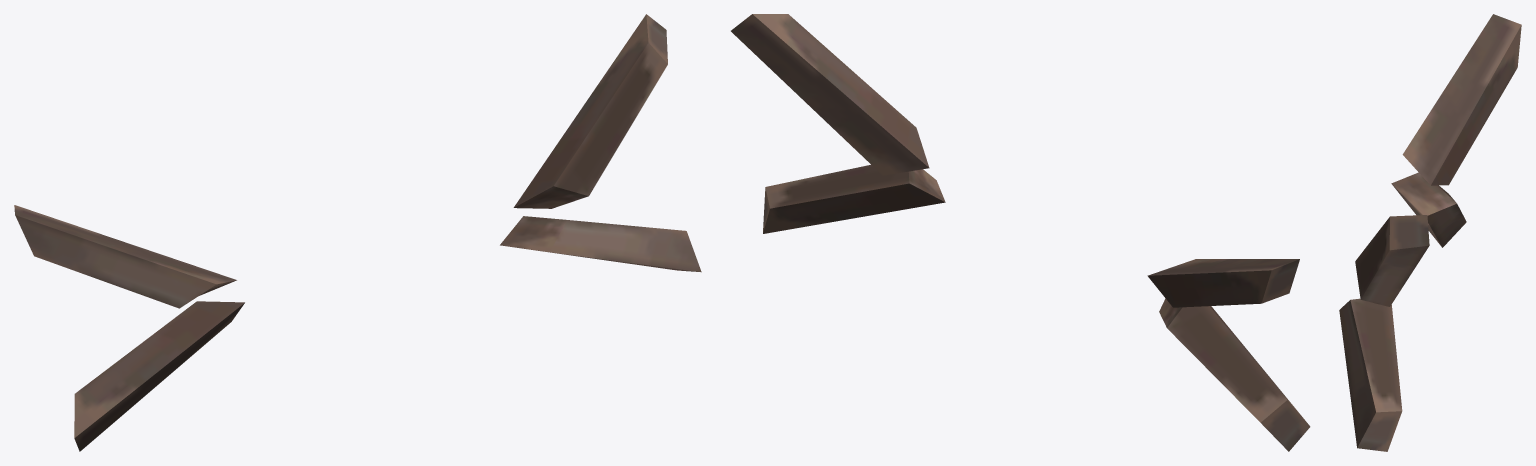
File: Homeworld_Exterior_Common_Prop_Thing_SnowmanEye_04_Vo.fbx
3 views of the same model, side by side, from view 1: azimuth 30°, elevation 25°; view 2: azimuth 150°, elevation 25°; view 3: azimuth 270°, elevation 25° (orthographic). The views are drawn at different scales.
Parts seen in each view (by area): view 1: Homeworld_Exterior_Common_Prop_Thing_SnowmanEye_04_Vo; view 2: Homeworld_Exterior_Common_Prop_Thing_SnowmanEye_04_Vo; view 3: Homeworld_Exterior_Common_Prop_Thing_SnowmanEye_04_Vo.
Part boxes in pixels (x1,y1,x2,y2): Homeworld_Exterior_Common_Prop_Thing_SnowmanEye_04_Vo: [14, 14, 701, 451]; Homeworld_Exterior_Common_Prop_Thing_SnowmanEye_04_Vo: [731, 14, 1310, 451]; Homeworld_Exterior_Common_Prop_Thing_SnowmanEye_04_Vo: [1339, 14, 1521, 451].
Size of the model in its own units: 0.4266 by 0.2028 by 0.1144.
